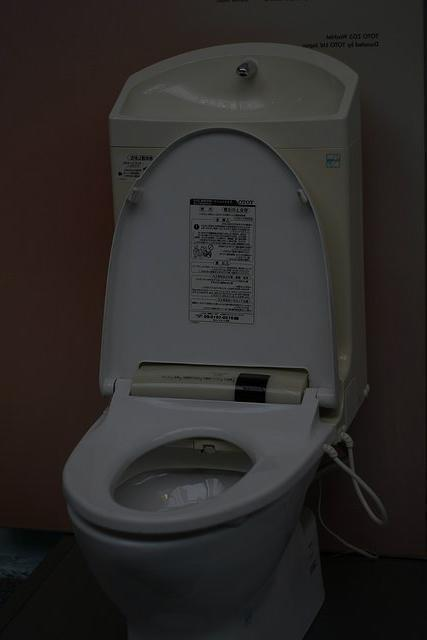Sanitario: (63, 51, 359, 638)
